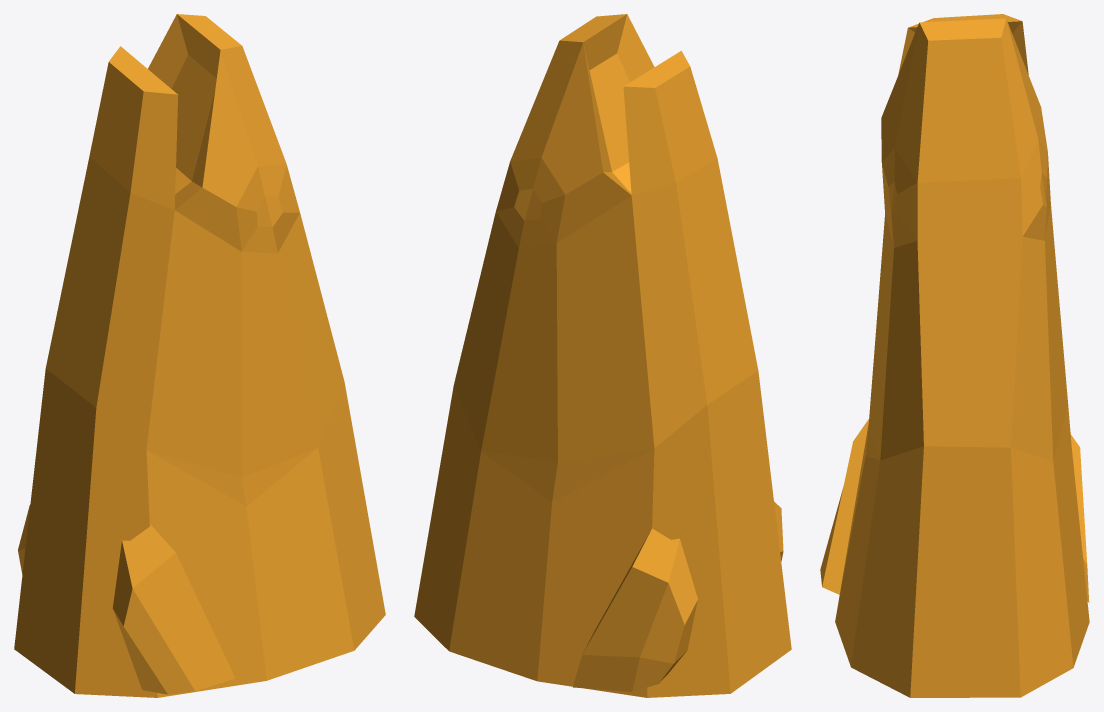
The model's file is SM_Fish_Head_Fantasy.fbx.
3 renders of one model, left to right at view 1: azimuth 30°, elevation 25°; view 2: azimuth 150°, elevation 25°; view 3: azimuth 270°, elevation 25°, orthographic.
Parts seen in each view (by area): view 1: fish-head-fantasy; view 2: fish-head-fantasy; view 3: fish-head-fantasy.
Boxes of the visible parts, <box> form: fish-head-fantasy: <box>14,14,385,697</box>; fish-head-fantasy: <box>414,14,791,697</box>; fish-head-fantasy: <box>820,14,1089,697</box>.
Size of the model in its own units: 0.1177 by 0.216 by 0.0875.
